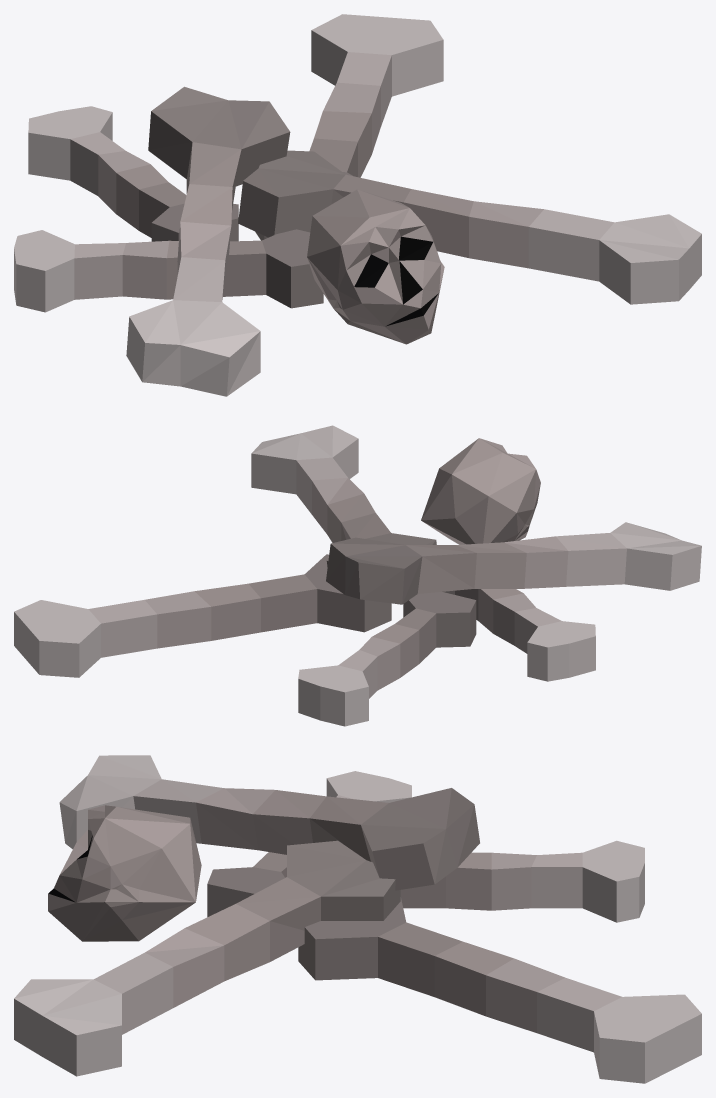
The picture shows the model from 3 angles, top to bottom: view 1: azimuth 30°, elevation 25°; view 2: azimuth 150°, elevation 25°; view 3: azimuth 270°, elevation 25°; orthographic projection. The views are drawn at different scales.
Size of the model in its own units: 113 by 25 by 121.
1 material, 1 textured.
